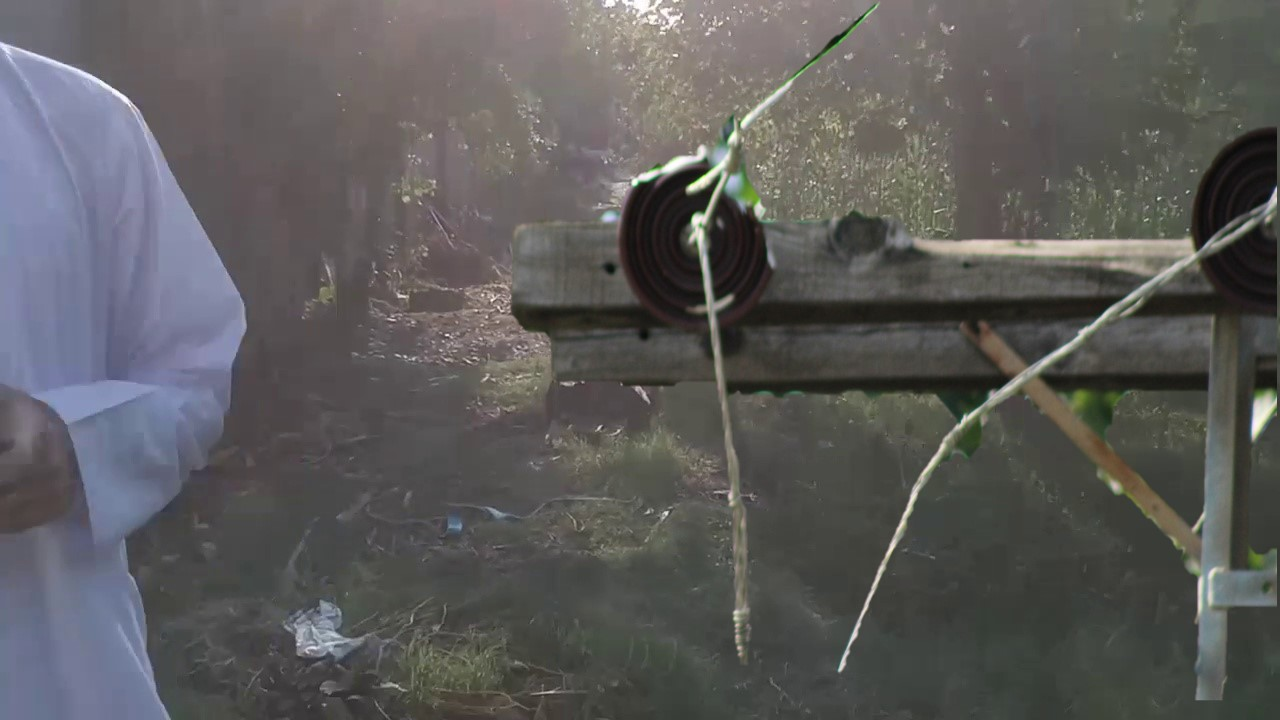defect_disc: (620, 145, 781, 341)
